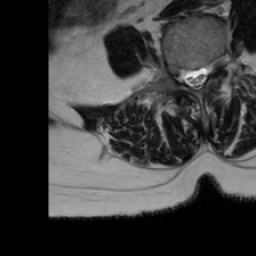CCS_normal: (191, 58, 199, 96)
LFS_normal: (209, 48, 218, 81)
LLS_normal: (199, 58, 209, 89)
RFS_normal: (173, 55, 183, 91)
RLS_normal: (183, 58, 191, 93)
